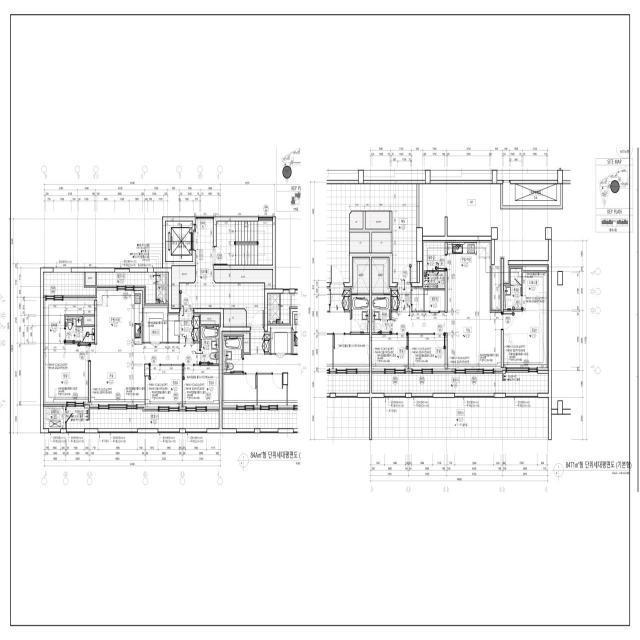space_balconi: (372, 374, 548, 393), (66, 407, 219, 428), (97, 272, 168, 303), (44, 273, 95, 296)
space_bedroom: (45, 344, 88, 402), (504, 311, 547, 367), (183, 366, 219, 407), (146, 366, 182, 407), (372, 335, 408, 369), (409, 335, 445, 369)
space_dressroom: (523, 273, 547, 311)
space_elevator_hall: (166, 219, 264, 327)
space_front: (392, 285, 423, 311), (180, 313, 199, 344)
space_kitchen: (448, 243, 490, 313), (97, 291, 143, 345)
space_living_room: (91, 344, 199, 404), (391, 313, 501, 369)
space_other: (327, 184, 416, 282), (372, 398, 548, 439), (45, 300, 94, 344), (214, 270, 273, 289), (172, 266, 195, 308), (424, 243, 445, 288), (144, 308, 167, 342), (351, 259, 370, 293), (372, 259, 390, 293), (425, 290, 445, 311), (366, 212, 390, 229), (372, 233, 392, 253), (224, 309, 246, 327), (350, 233, 369, 253), (168, 315, 179, 342), (350, 212, 363, 229), (201, 315, 219, 324), (85, 272, 95, 285), (84, 316, 94, 325), (145, 364, 149, 376)
space_outdoor_room: (43, 407, 65, 428)
space_staircase: (214, 221, 273, 265)
space_toilet: (66, 317, 95, 342), (504, 269, 522, 309), (372, 295, 390, 333), (201, 326, 219, 364)
